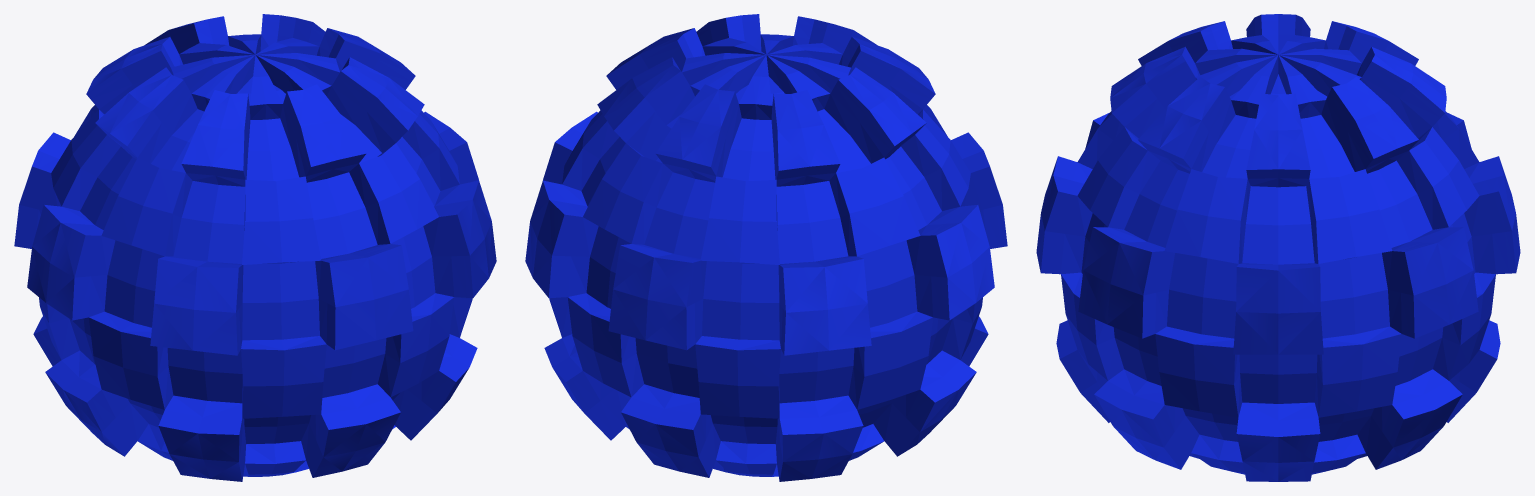
3 renders of one model, left to right at view 1: azimuth 30°, elevation 25°; view 2: azimuth 150°, elevation 25°; view 3: azimuth 270°, elevation 25°, orthographic.
Parts seen in each view (by area): view 1: Sphere; view 2: Sphere; view 3: Sphere.
Boxes of the visible parts, <box> form: Sphere: <box>14,14,496,481</box>; Sphere: <box>525,14,1007,481</box>; Sphere: <box>1036,14,1520,481</box>.
Size of the model in its own units: 2.41 by 2.41 by 2.21.
